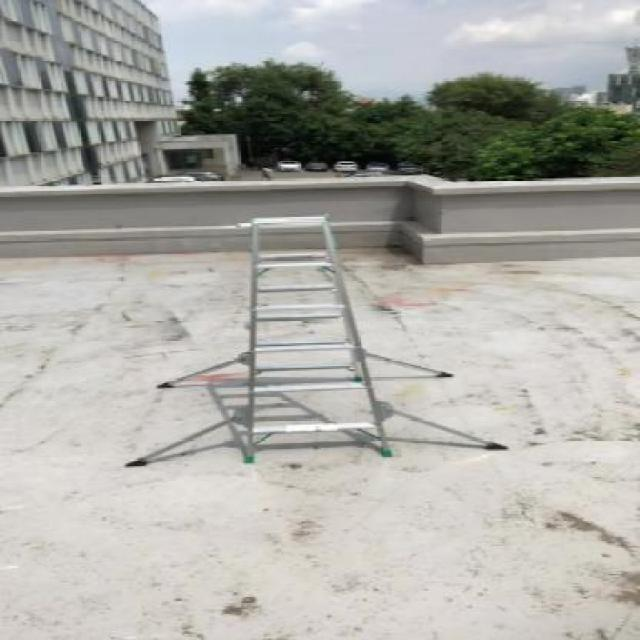boots: (124, 202, 516, 470)
